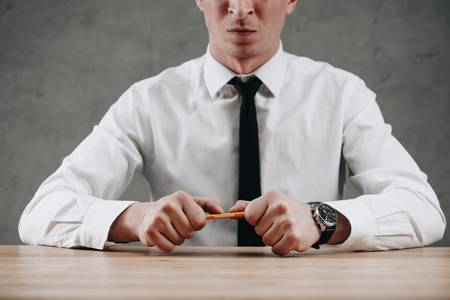F_shirt: (17, 39, 447, 247)
